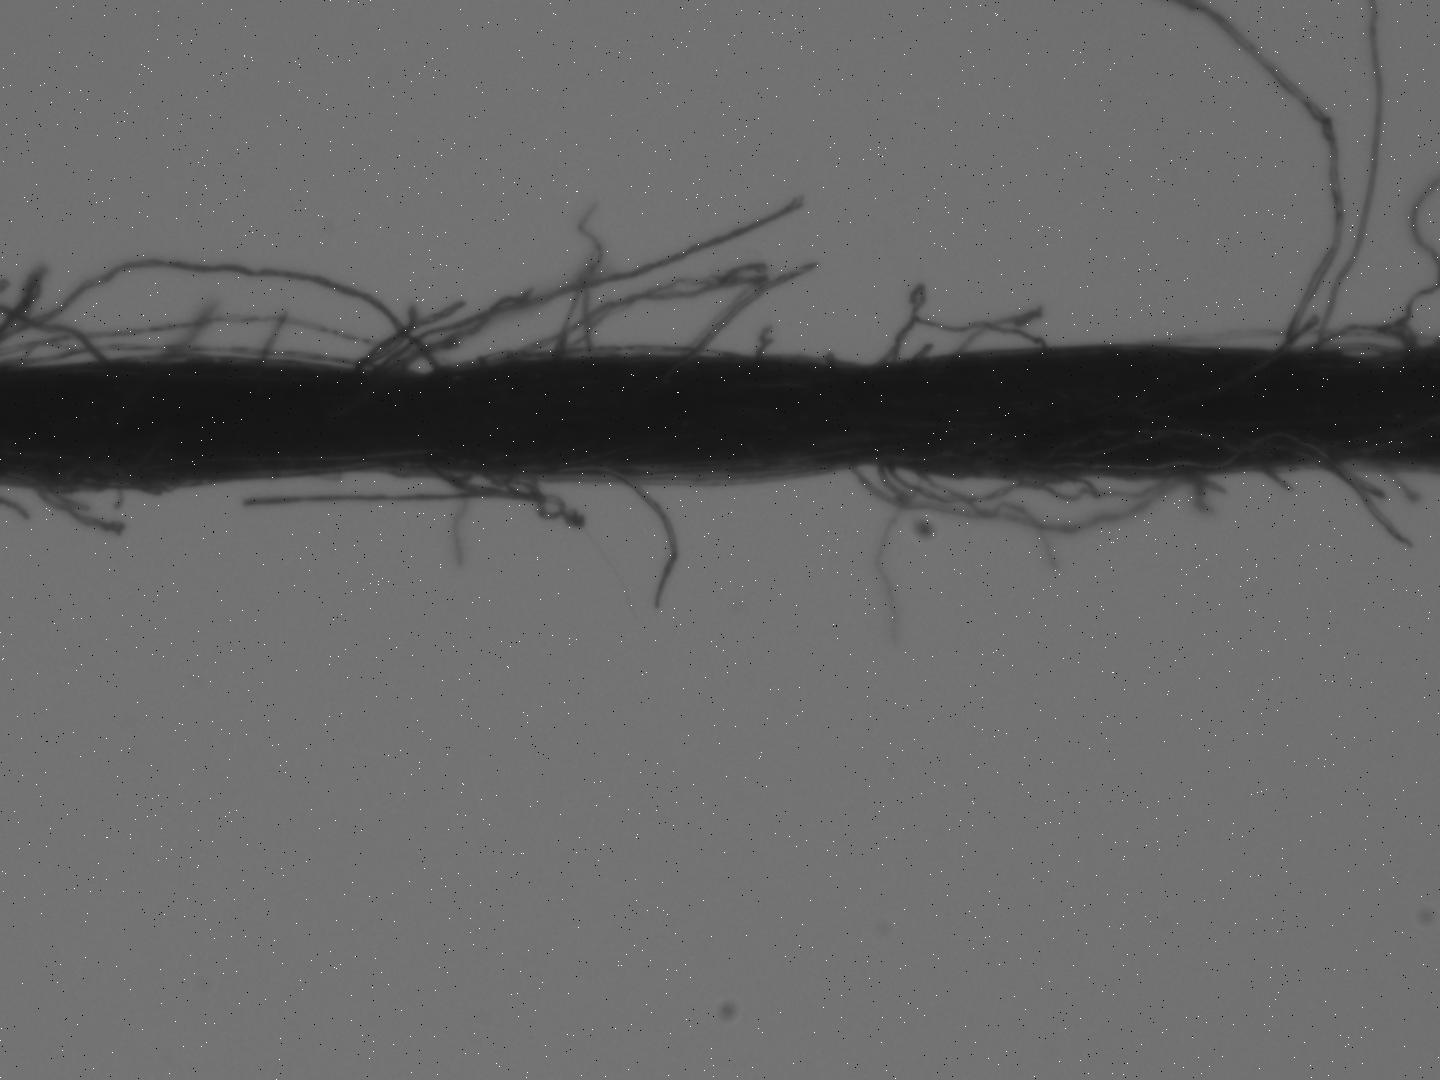loop_fiber: (3, 311, 413, 377), (888, 311, 1044, 369), (882, 456, 1043, 504), (435, 467, 571, 522), (1035, 469, 1198, 498), (1306, 323, 1414, 361)
protruding_fiber: (371, 200, 803, 372), (1195, 1, 1340, 353), (679, 259, 818, 361), (590, 465, 680, 613), (1329, 463, 1412, 548)
